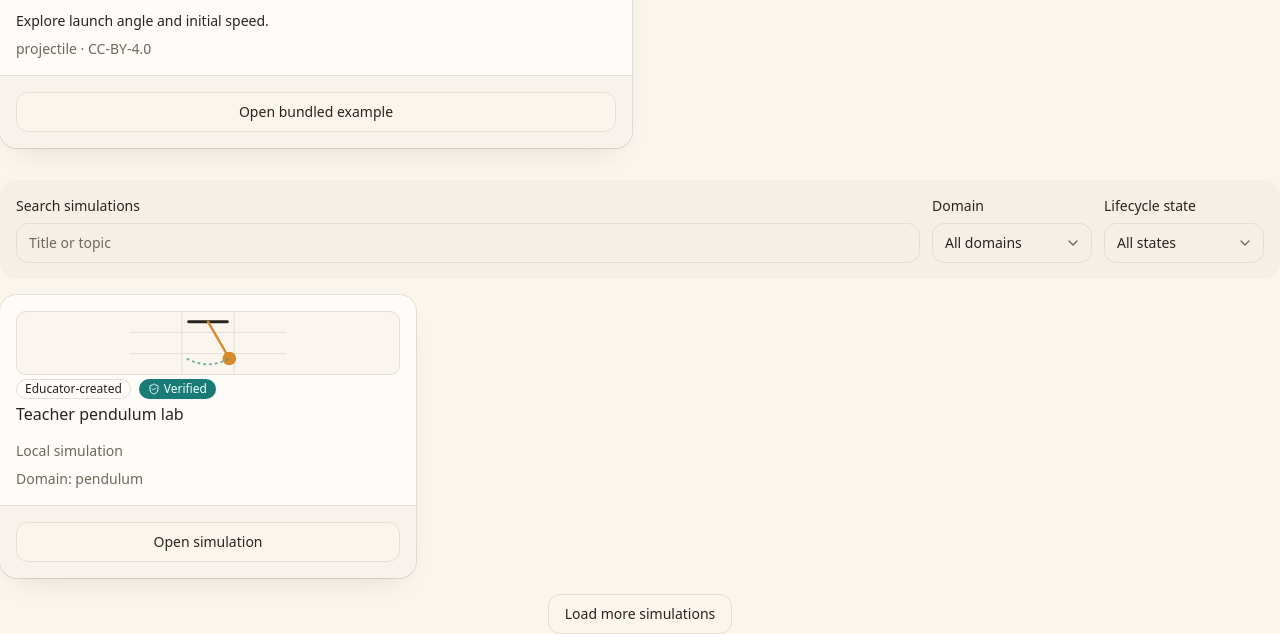
Scenario: educator seed library › appends cursor pages and clears an empty filtered result back to the base query
(page scrolled)
Expected: the heading "Teacher pendulum lab" is shown, [16,403,184,425]
Click the button "Load more simulations" at (640, 614), box [548,594,732,633]
(page scrolled)
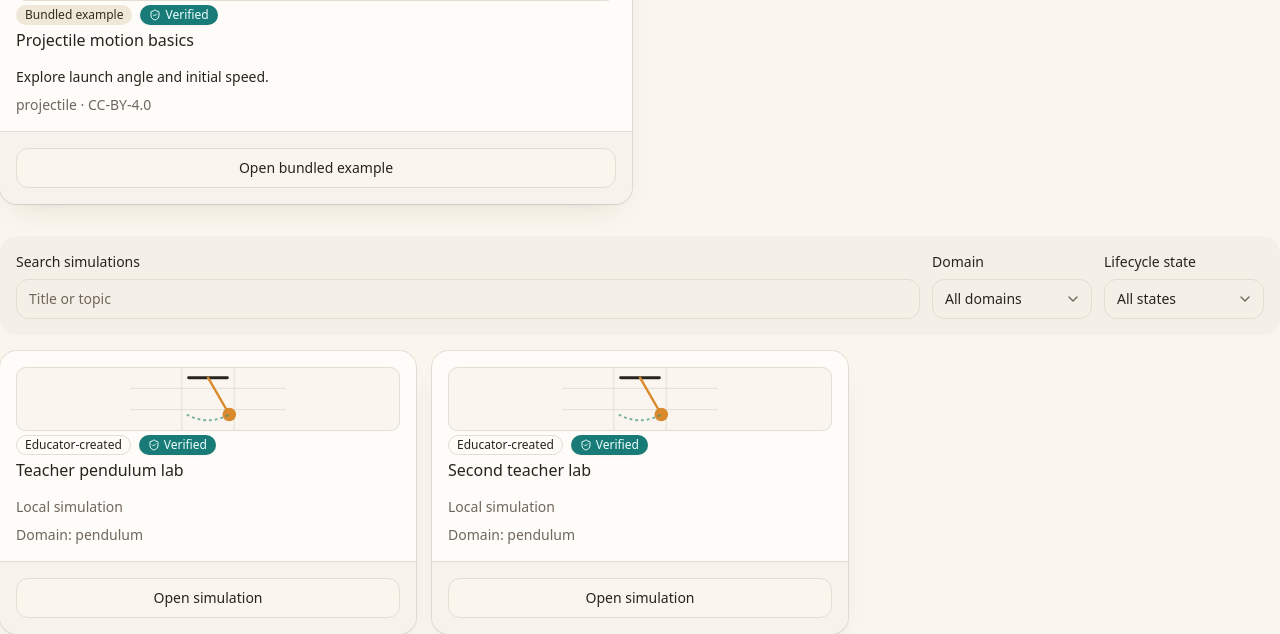
Expected: the heading "Teacher pendulum lab" is shown, [16,459,184,481]
Expected: the heading "Second teacher lab" is shown, [448,459,591,481]
Type "missing" into the search field labelled "Search simulations" at (468, 299), box [16,279,920,319]
(page scrolled)
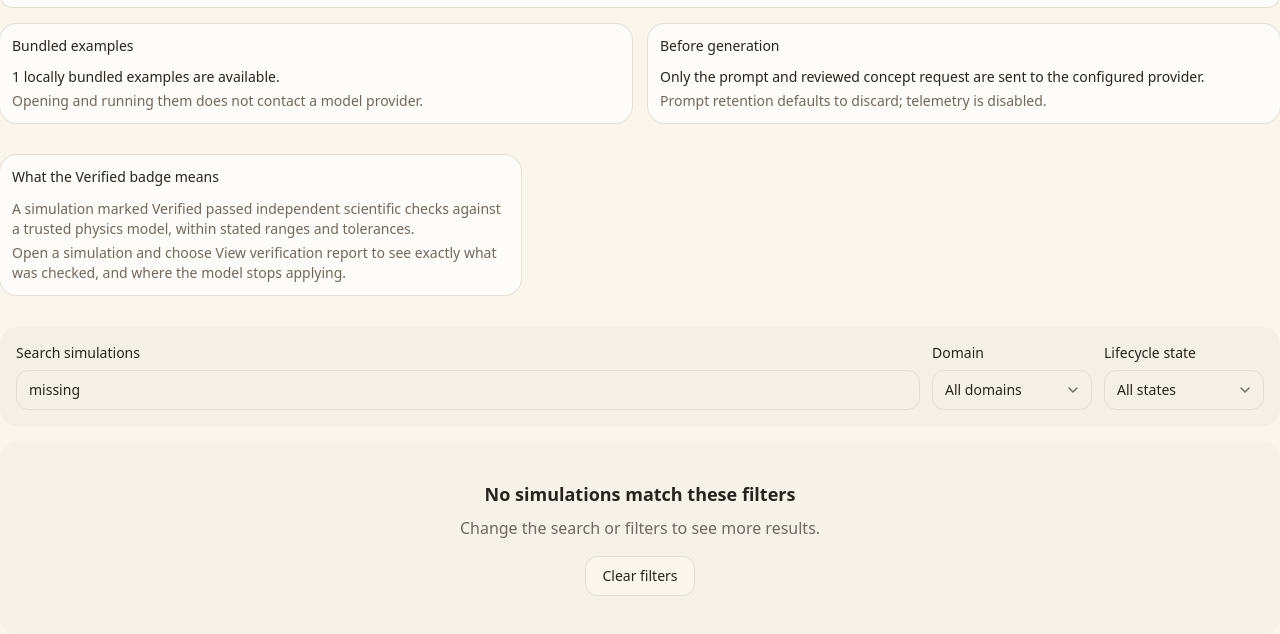
Expected: the heading "No simulations match these filters" is shown, [460,480,820,508]
Click the button "Clear filters" at (640, 576), box [585,556,694,596]
(page scrolled)
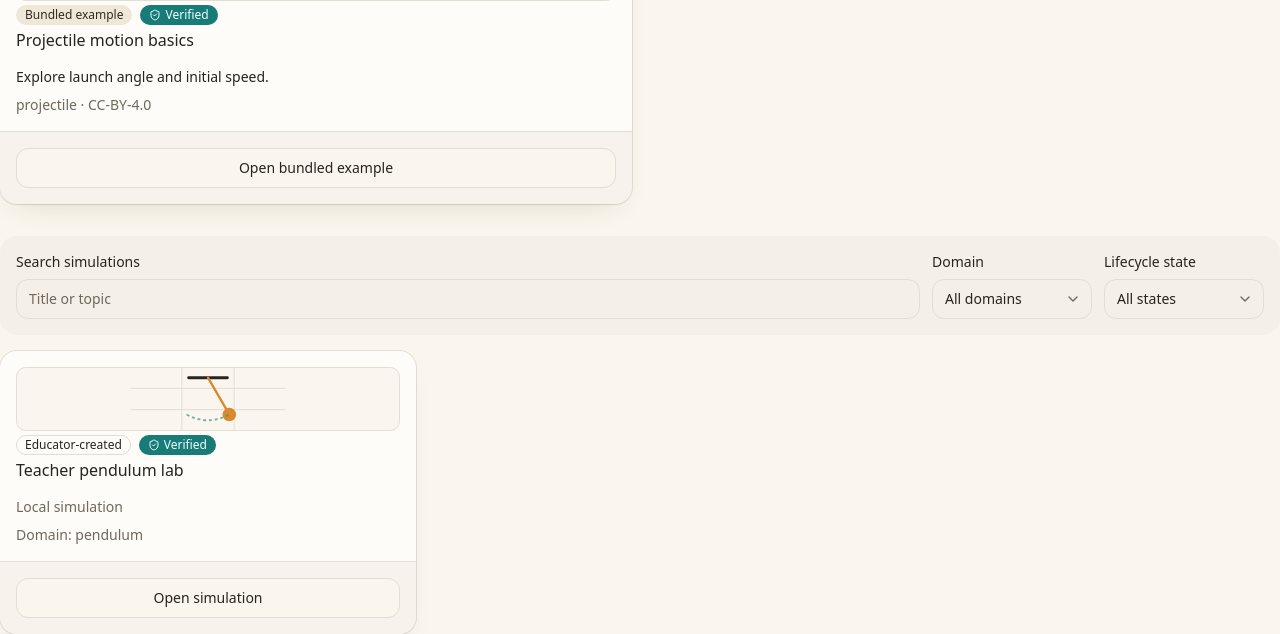
Expected: the heading "Teacher pendulum lab" is shown, [16,459,184,481]
Expected: the search field labelled "Search simulations" is empty, [16,279,920,319]
